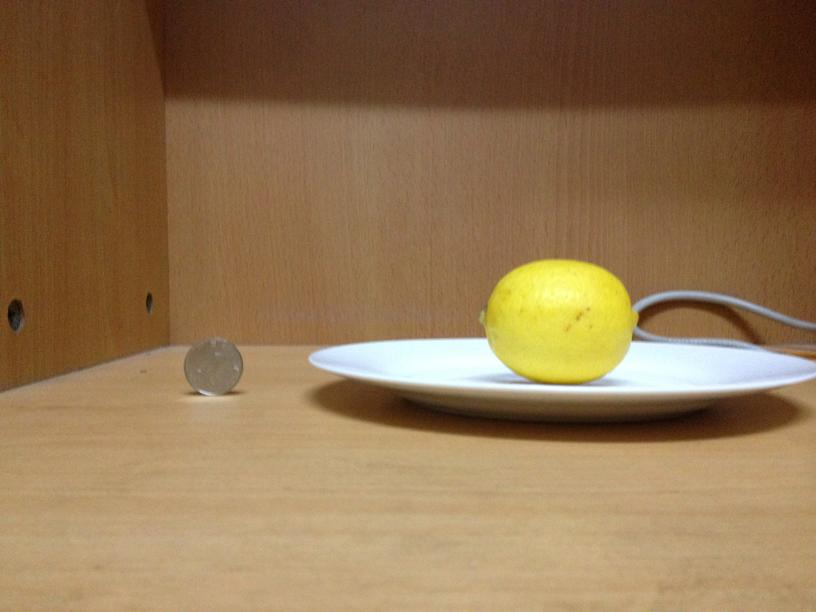coin: (184, 336, 242, 394)
lemon: (483, 259, 638, 382)
